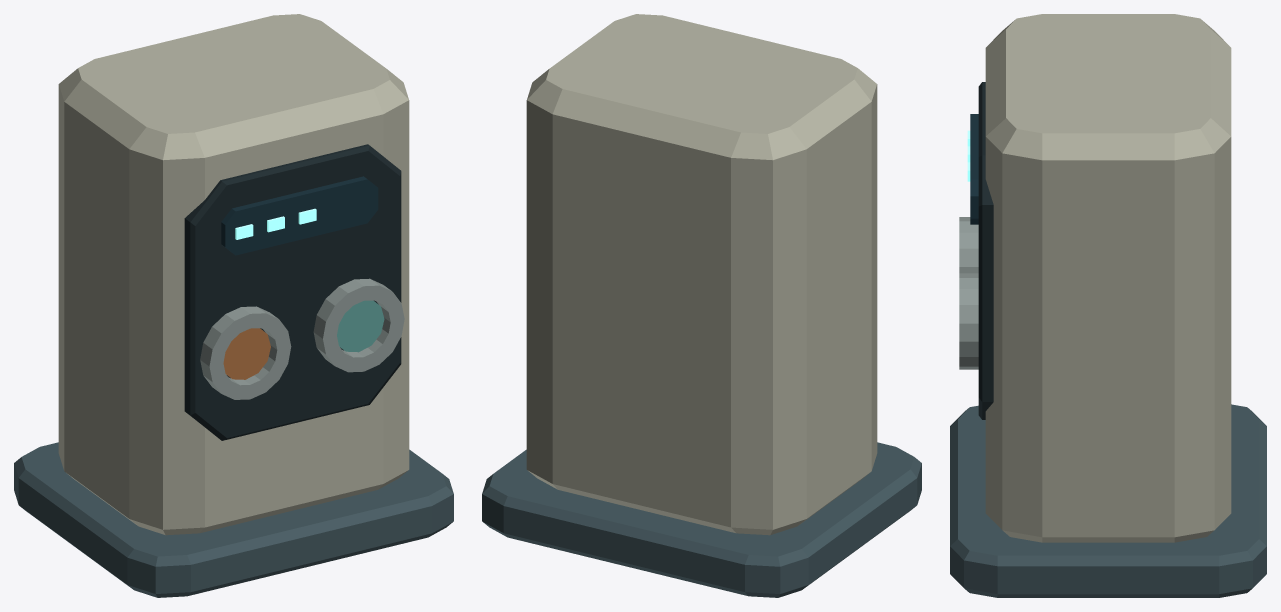
File: HC-13_cold_service_dock.glb
3 renders of one model, left to right at view 1: azimuth 30°, elevation 25°; view 2: azimuth 150°, elevation 25°; view 3: azimuth 270°, elevation 25°, orthographic.
Visible parts, largest first — view 1: HC-13_cold_service_dock; view 2: HC-13_cold_service_dock; view 3: HC-13_cold_service_dock.
Boxes of the visible parts, left/top/right/bottom form: HC-13_cold_service_dock: left=14, top=14, right=453, bottom=597; HC-13_cold_service_dock: left=482, top=14, right=921, bottom=597; HC-13_cold_service_dock: left=950, top=14, right=1266, bottom=597.
Size of the model in its own units: 1.22 by 1.59 by 1.02.
